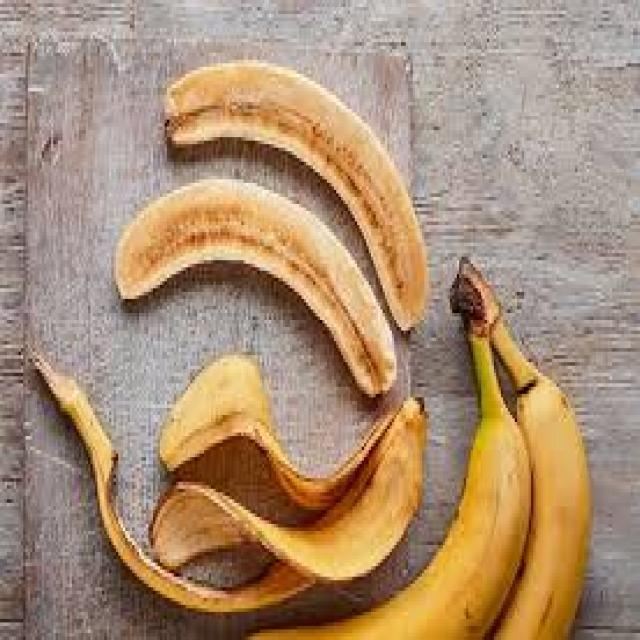organic waste: (28, 344, 424, 616), (241, 285, 531, 636), (160, 56, 427, 334), (112, 176, 394, 394), (457, 256, 589, 636)
